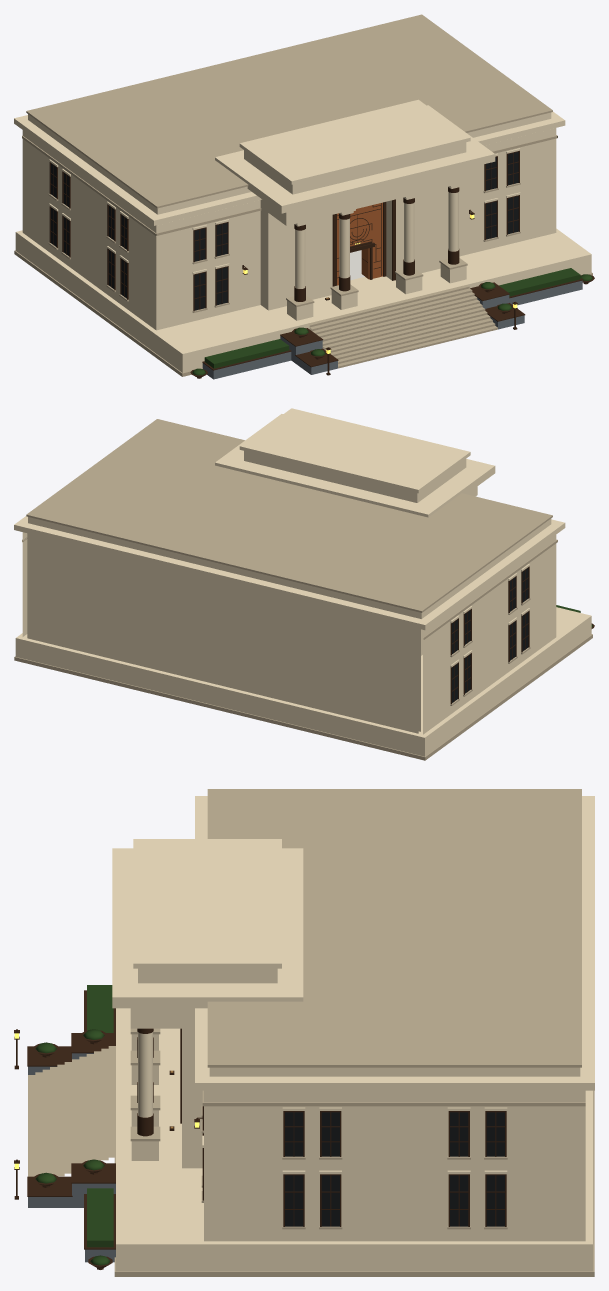
The model's file is civic_hall.gltf.
3 views of the same model, one above another, from view 1: azimuth 30°, elevation 25°; view 2: azimuth 150°, elevation 25°; view 3: azimuth 270°, elevation 25° (orthographic). The views are drawn at different scales.
Parts seen in each view (by area): view 1: civic_hall; view 2: civic_hall; view 3: civic_hall.
Part boxes in pixels (x1=…): civic_hall: x1=14, y1=14, x2=594, y2=379; civic_hall: x1=14, y1=408, x2=594, y2=760; civic_hall: x1=14, y1=789, x2=594, y2=1276.
Size of the model in its own units: 37 by 13.97 by 31.66.
